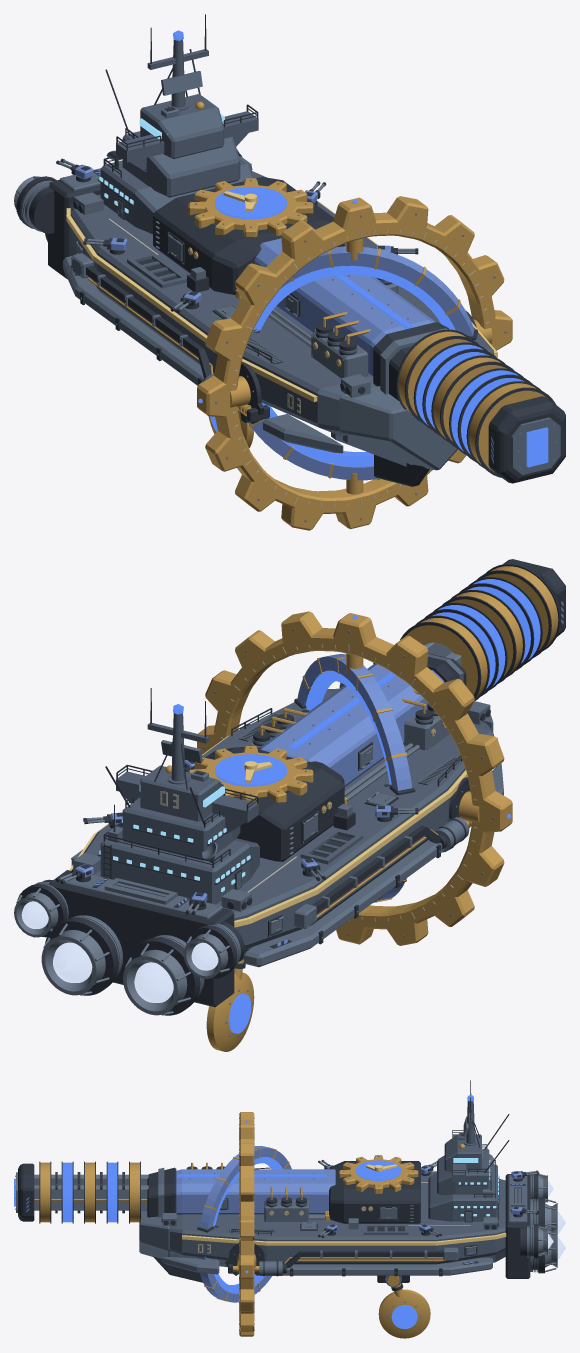
File: pendulum_wreck.glb
3 renders of one model, top to bottom at view 1: azimuth 30°, elevation 25°; view 2: azimuth 150°, elevation 25°; view 3: azimuth 270°, elevation 25°, orthographic. The views are drawn at different scales.
Visible parts, largest first — view 1: pendulum_wreck_12, pendulum_wreck_00, pendulum_wreck_04, pendulum_wreck_05, pendulum_wreck_15, pendulum_wreck_02, pendulum_wreck_21, pendulum_wreck_14, pendulum_wreck_08, pendulum_wreck_03, pendulum_wreck_13, pendulum_wreck_11 (+5 smaller); view 2: pendulum_wreck_12, pendulum_wreck_04, pendulum_wreck_19, pendulum_wreck_21, pendulum_wreck_14, pendulum_wreck_05, pendulum_wreck_03, pendulum_wreck_10, pendulum_wreck_00, pendulum_wreck_02, pendulum_wreck_13, pendulum_wreck_16 (+6 smaller); view 3: pendulum_wreck_01, pendulum_wreck_06, pendulum_wreck_10, pendulum_wreck_07, pendulum_wreck_00, pendulum_wreck_18, pendulum_wreck_04, pendulum_wreck_17, pendulum_wreck_16, pendulum_wreck_13, pendulum_wreck_09, pendulum_wreck_02 (+9 smaller).
Boxes of the visible parts, bbox=[...] form: pendulum_wreck_12: bbox=[95, 200, 250, 373]; pendulum_wreck_00: bbox=[413, 348, 565, 483]; pendulum_wreck_04: bbox=[105, 14, 278, 201]; pendulum_wreck_05: bbox=[180, 326, 299, 511]; pendulum_wreck_15: bbox=[276, 305, 399, 451]; pendulum_wreck_02: bbox=[281, 196, 423, 310]; pendulum_wreck_21: bbox=[71, 146, 199, 310]; pendulum_wreck_14: bbox=[188, 246, 326, 347]; pendulum_wreck_08: bbox=[270, 439, 420, 530]; pendulum_wreck_03: bbox=[14, 158, 106, 303]; pendulum_wreck_13: bbox=[375, 309, 488, 422]; pendulum_wreck_11: bbox=[328, 414, 457, 486]; pendulum_wreck_12: bbox=[254, 760, 418, 932]; pendulum_wreck_04: bbox=[105, 688, 267, 867]; pendulum_wreck_19: bbox=[65, 868, 207, 1015]; pendulum_wreck_21: bbox=[147, 797, 333, 943]; pendulum_wreck_14: bbox=[318, 668, 491, 833]; pendulum_wreck_05: bbox=[386, 735, 512, 926]; pendulum_wreck_03: bbox=[180, 881, 320, 1007]; pendulum_wreck_10: bbox=[14, 832, 148, 995]; pendulum_wreck_00: bbox=[433, 559, 565, 696]; pendulum_wreck_02: bbox=[296, 611, 431, 724]; pendulum_wreck_13: bbox=[371, 607, 497, 700]; pendulum_wreck_16: bbox=[210, 613, 340, 730]; pendulum_wreck_01: bbox=[376, 1182, 480, 1276]; pendulum_wreck_06: bbox=[278, 1162, 389, 1236]; pendulum_wreck_10: bbox=[466, 1192, 565, 1278]; pendulum_wreck_07: bbox=[192, 1209, 293, 1298]; pendulum_wreck_00: bbox=[14, 1161, 118, 1223]; pendulum_wreck_18: bbox=[117, 1182, 225, 1270]; pendulum_wreck_04: bbox=[379, 1080, 509, 1201]; pendulum_wreck_17: bbox=[286, 1225, 394, 1276]; pendulum_wreck_16: bbox=[210, 1145, 289, 1230]; pendulum_wreck_13: bbox=[110, 1161, 203, 1216]; pendulum_wreck_09: bbox=[377, 1275, 430, 1338]; pendulum_wreck_02: bbox=[203, 1112, 285, 1189].
Bounding box in the file's own units: 4.6 × 5.51 × 11.1.
